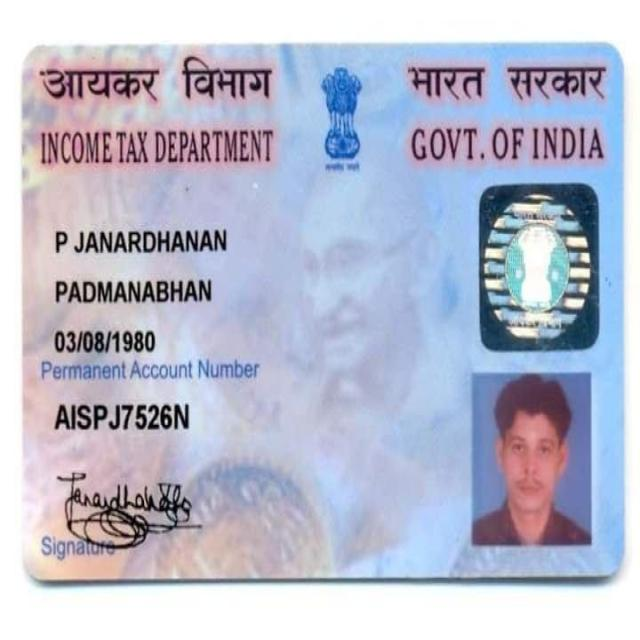pan_card: (22, 39, 624, 585)
